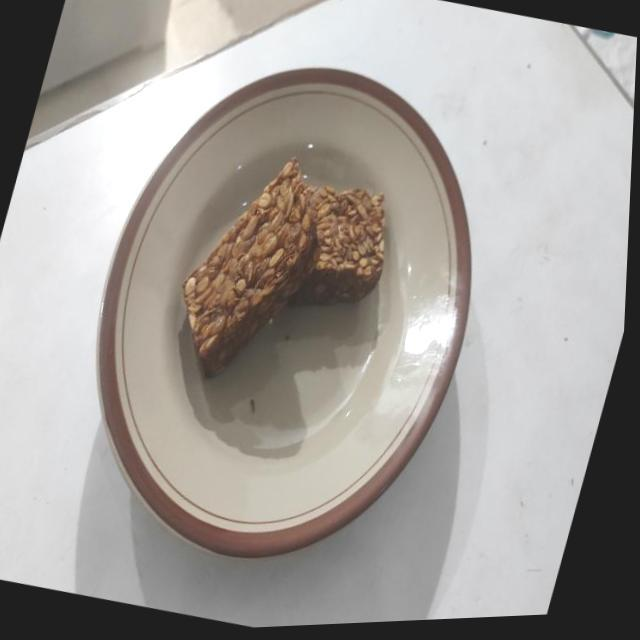tempe_goreng: (182, 158, 318, 375), (288, 186, 384, 305)
